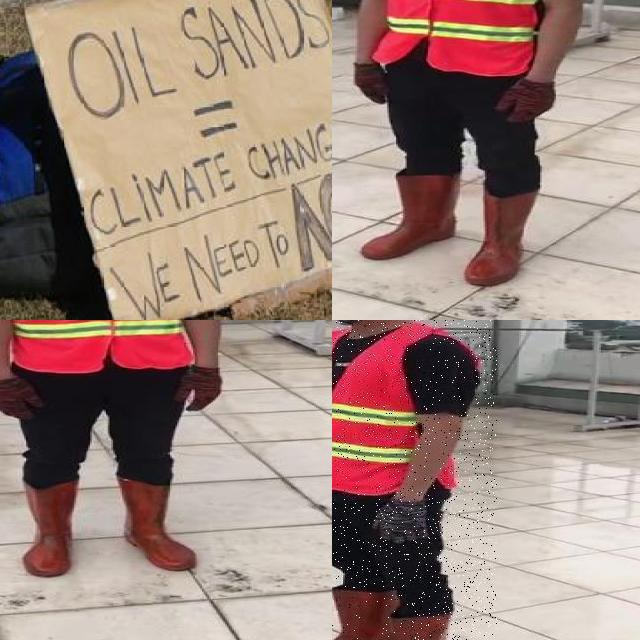boots: (362, 174, 462, 259), (118, 474, 196, 571), (466, 190, 538, 286), (15, 476, 80, 578), (332, 589, 400, 640), (353, 611, 449, 640)
hand_glove: (496, 79, 558, 124), (170, 365, 223, 412), (0, 379, 45, 419), (352, 62, 391, 105)
head_helmet: (0, 320, 249, 587)
person: (345, 0, 599, 286), (332, 320, 497, 640)
vest: (332, 326, 476, 493), (372, 0, 545, 72), (0, 320, 189, 370)
